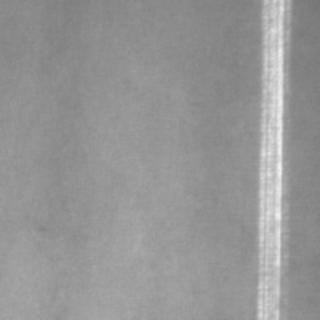scratches: (248, 0, 292, 318)
